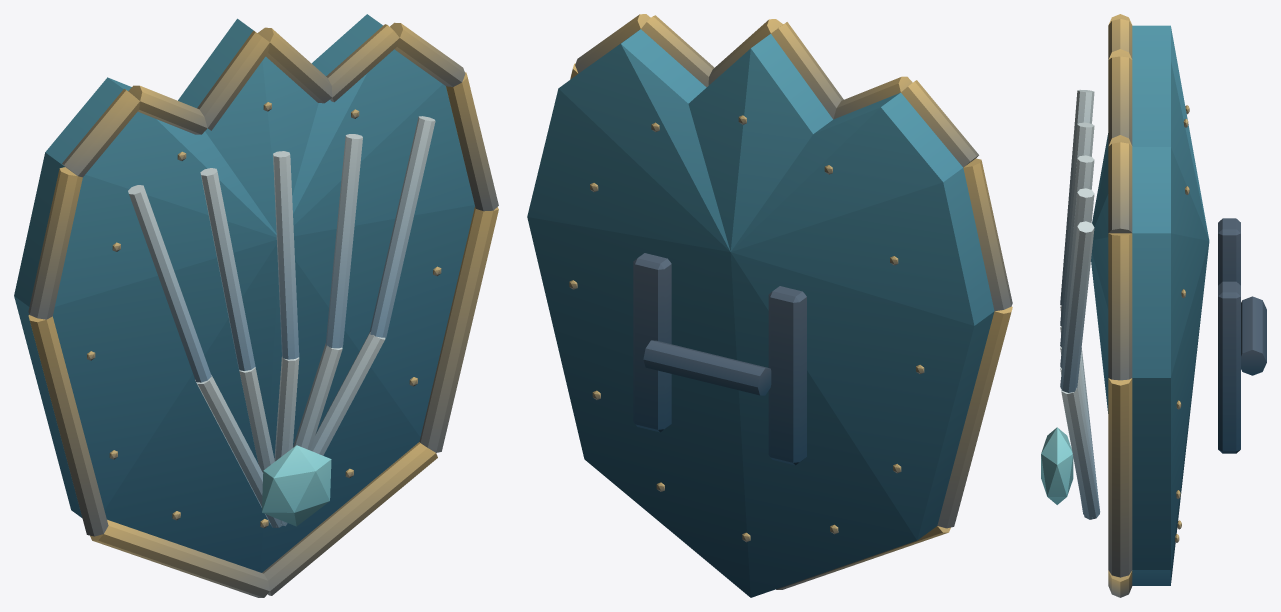
The model's file is escudo_concha_regia.glb.
3 views of the same model, side by side, from view 1: azimuth 30°, elevation 25°; view 2: azimuth 150°, elevation 25°; view 3: azimuth 270°, elevation 25° (orthographic). The views are drawn at different scales.
Visible parts, largest first — view 1: escudo_concha_regia_finished; view 2: escudo_concha_regia_finished; view 3: escudo_concha_regia_finished.
Part boxes in pixels (bbox=[...]): escudo_concha_regia_finished: bbox=[14, 14, 498, 597]; escudo_concha_regia_finished: bbox=[527, 14, 1012, 597]; escudo_concha_regia_finished: bbox=[1041, 14, 1266, 597].
Size of the model in its own units: 0.9008 by 1.04 by 0.3931.
Materials: 2 (2 with a texture image).
